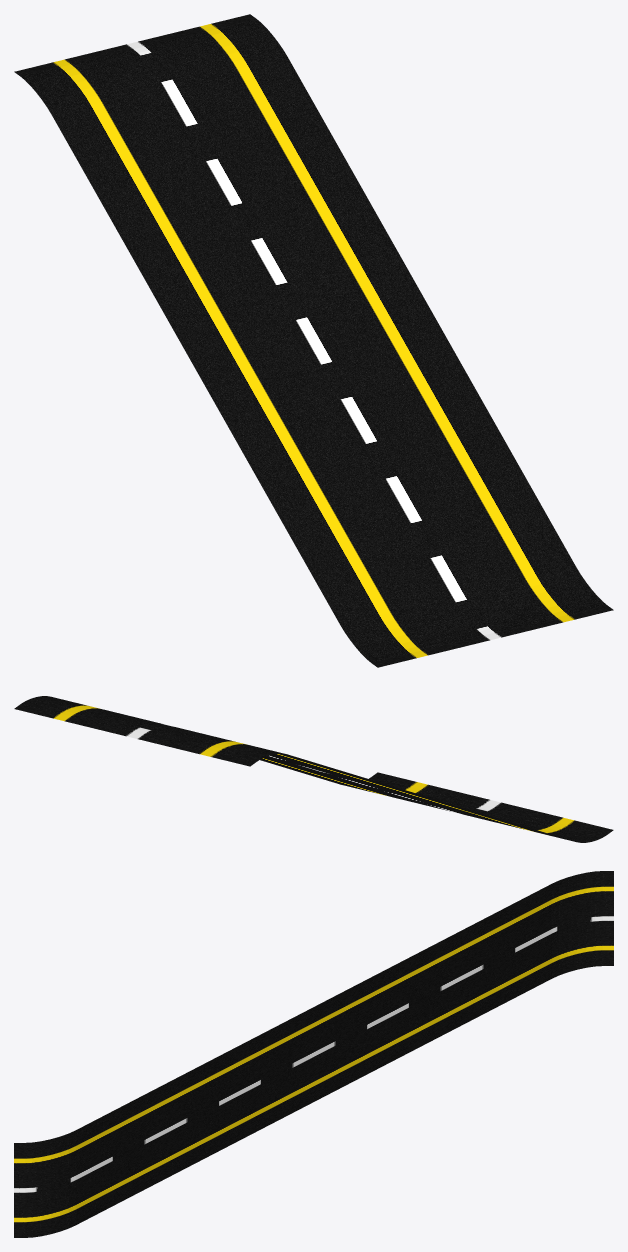
File: Road_Splope_Up.fbx
3 views of the same model, one above another, from view 1: azimuth 30°, elevation 25°; view 2: azimuth 150°, elevation 25°; view 3: azimuth 270°, elevation 25° (orthographic). The views are drawn at different scales.
Parts seen in each view (by area): view 1: Road_Splope_Up; view 2: Road_Splope_Up; view 3: Road_Splope_Up.
Boxes of the visible parts, x1,y1,x2,y2 form: Road_Splope_Up: (14,14,613,667); Road_Splope_Up: (14,696,613,842); Road_Splope_Up: (14,871,613,1237).
Size of the model in its own units: 150 by 200 by 400.
